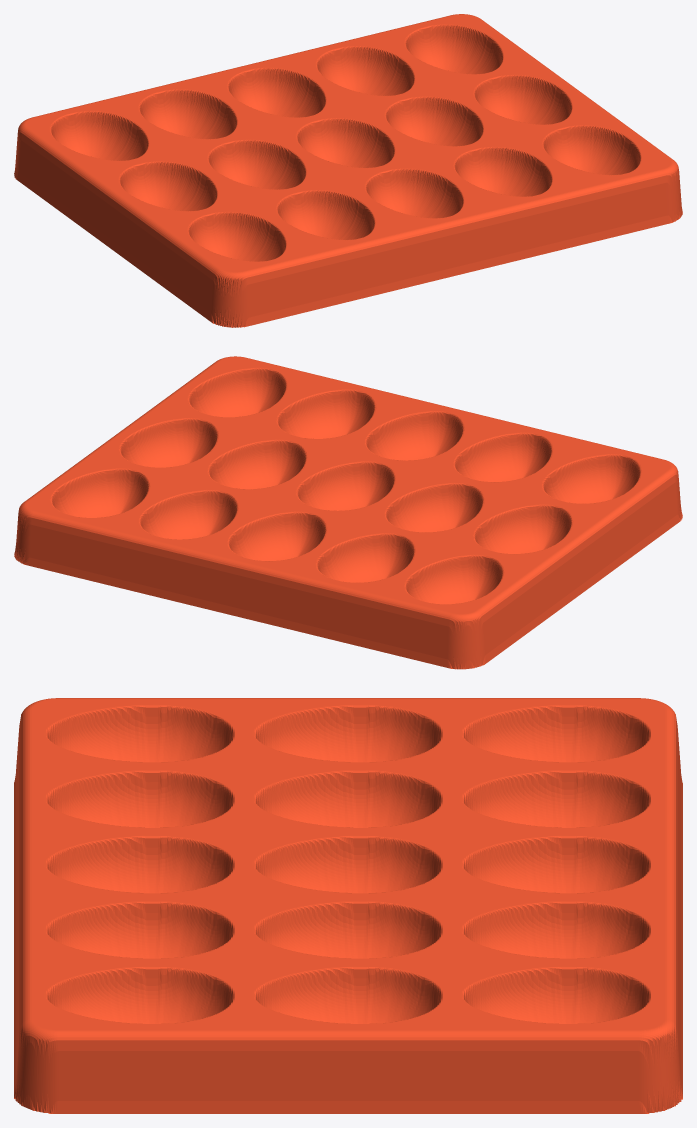
The model's file is mold.glb.
3 renders of one model, top to bottom at view 1: azimuth 30°, elevation 25°; view 2: azimuth 150°, elevation 25°; view 3: azimuth 270°, elevation 25°, orthographic. The views are drawn at different scales.
Visible parts, largest first — view 1: geometry_0; view 2: geometry_0; view 3: geometry_0.
Part boxes in pixels (box(x1,y1,x2,y2)): geometry_0: box(14, 14, 682, 327); geometry_0: box(14, 356, 682, 669); geometry_0: box(14, 698, 682, 1113).
Size of the model in its own units: 0.1703 by 0.0175 by 0.1392.
